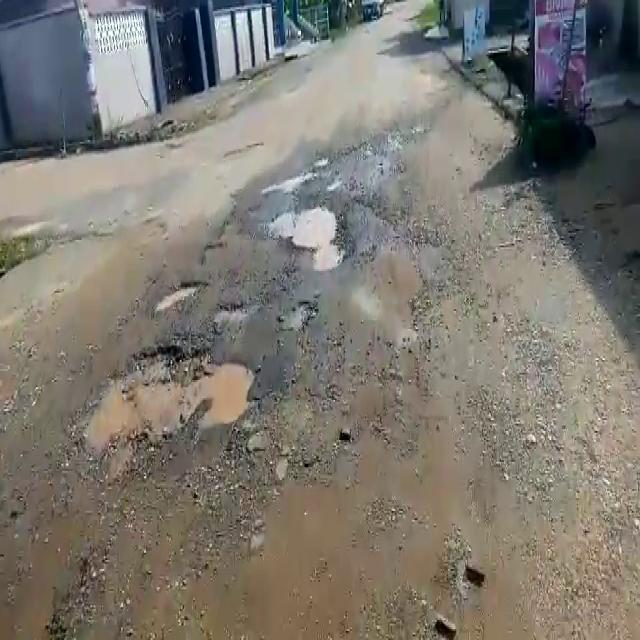Pothole: (76, 339, 266, 460), (262, 198, 349, 270), (152, 278, 204, 316), (216, 298, 254, 326)
